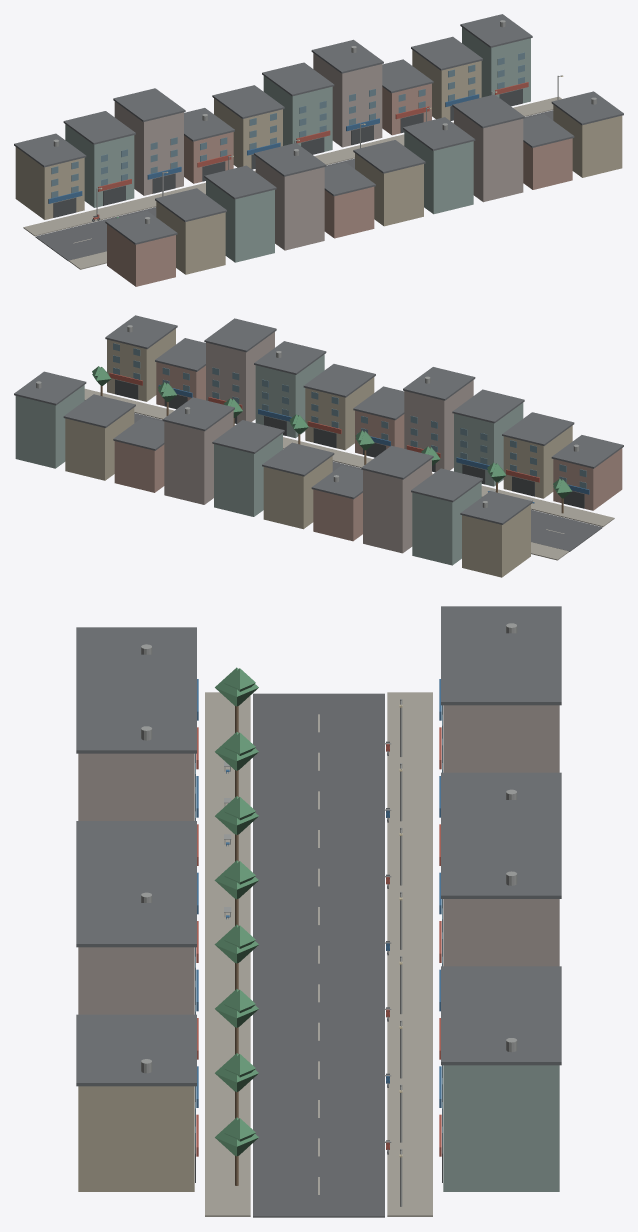
Rendered from hanoi-expansion-v04.glb.
The picture shows the model from 3 angles, top to bottom: view 1: azimuth 30°, elevation 25°; view 2: azimuth 150°, elevation 25°; view 3: azimuth 270°, elevation 25°; orthographic projection. The views are drawn at different scales.
Parts seen in each view (by area): view 1: Hanoi_Street_Expansion_V04; view 2: Hanoi_Street_Expansion_V04; view 3: Hanoi_Street_Expansion_V04.
Part boxes in pixels (left/top/right/bottom): Hanoi_Street_Expansion_V04: left=14, top=14, right=623, bottom=286; Hanoi_Street_Expansion_V04: left=14, top=315, right=623, bottom=577; Hanoi_Street_Expansion_V04: left=76, top=606, right=561, bottom=1217.
Size of the model in its own units: 122 by 17.76 by 47.9.
